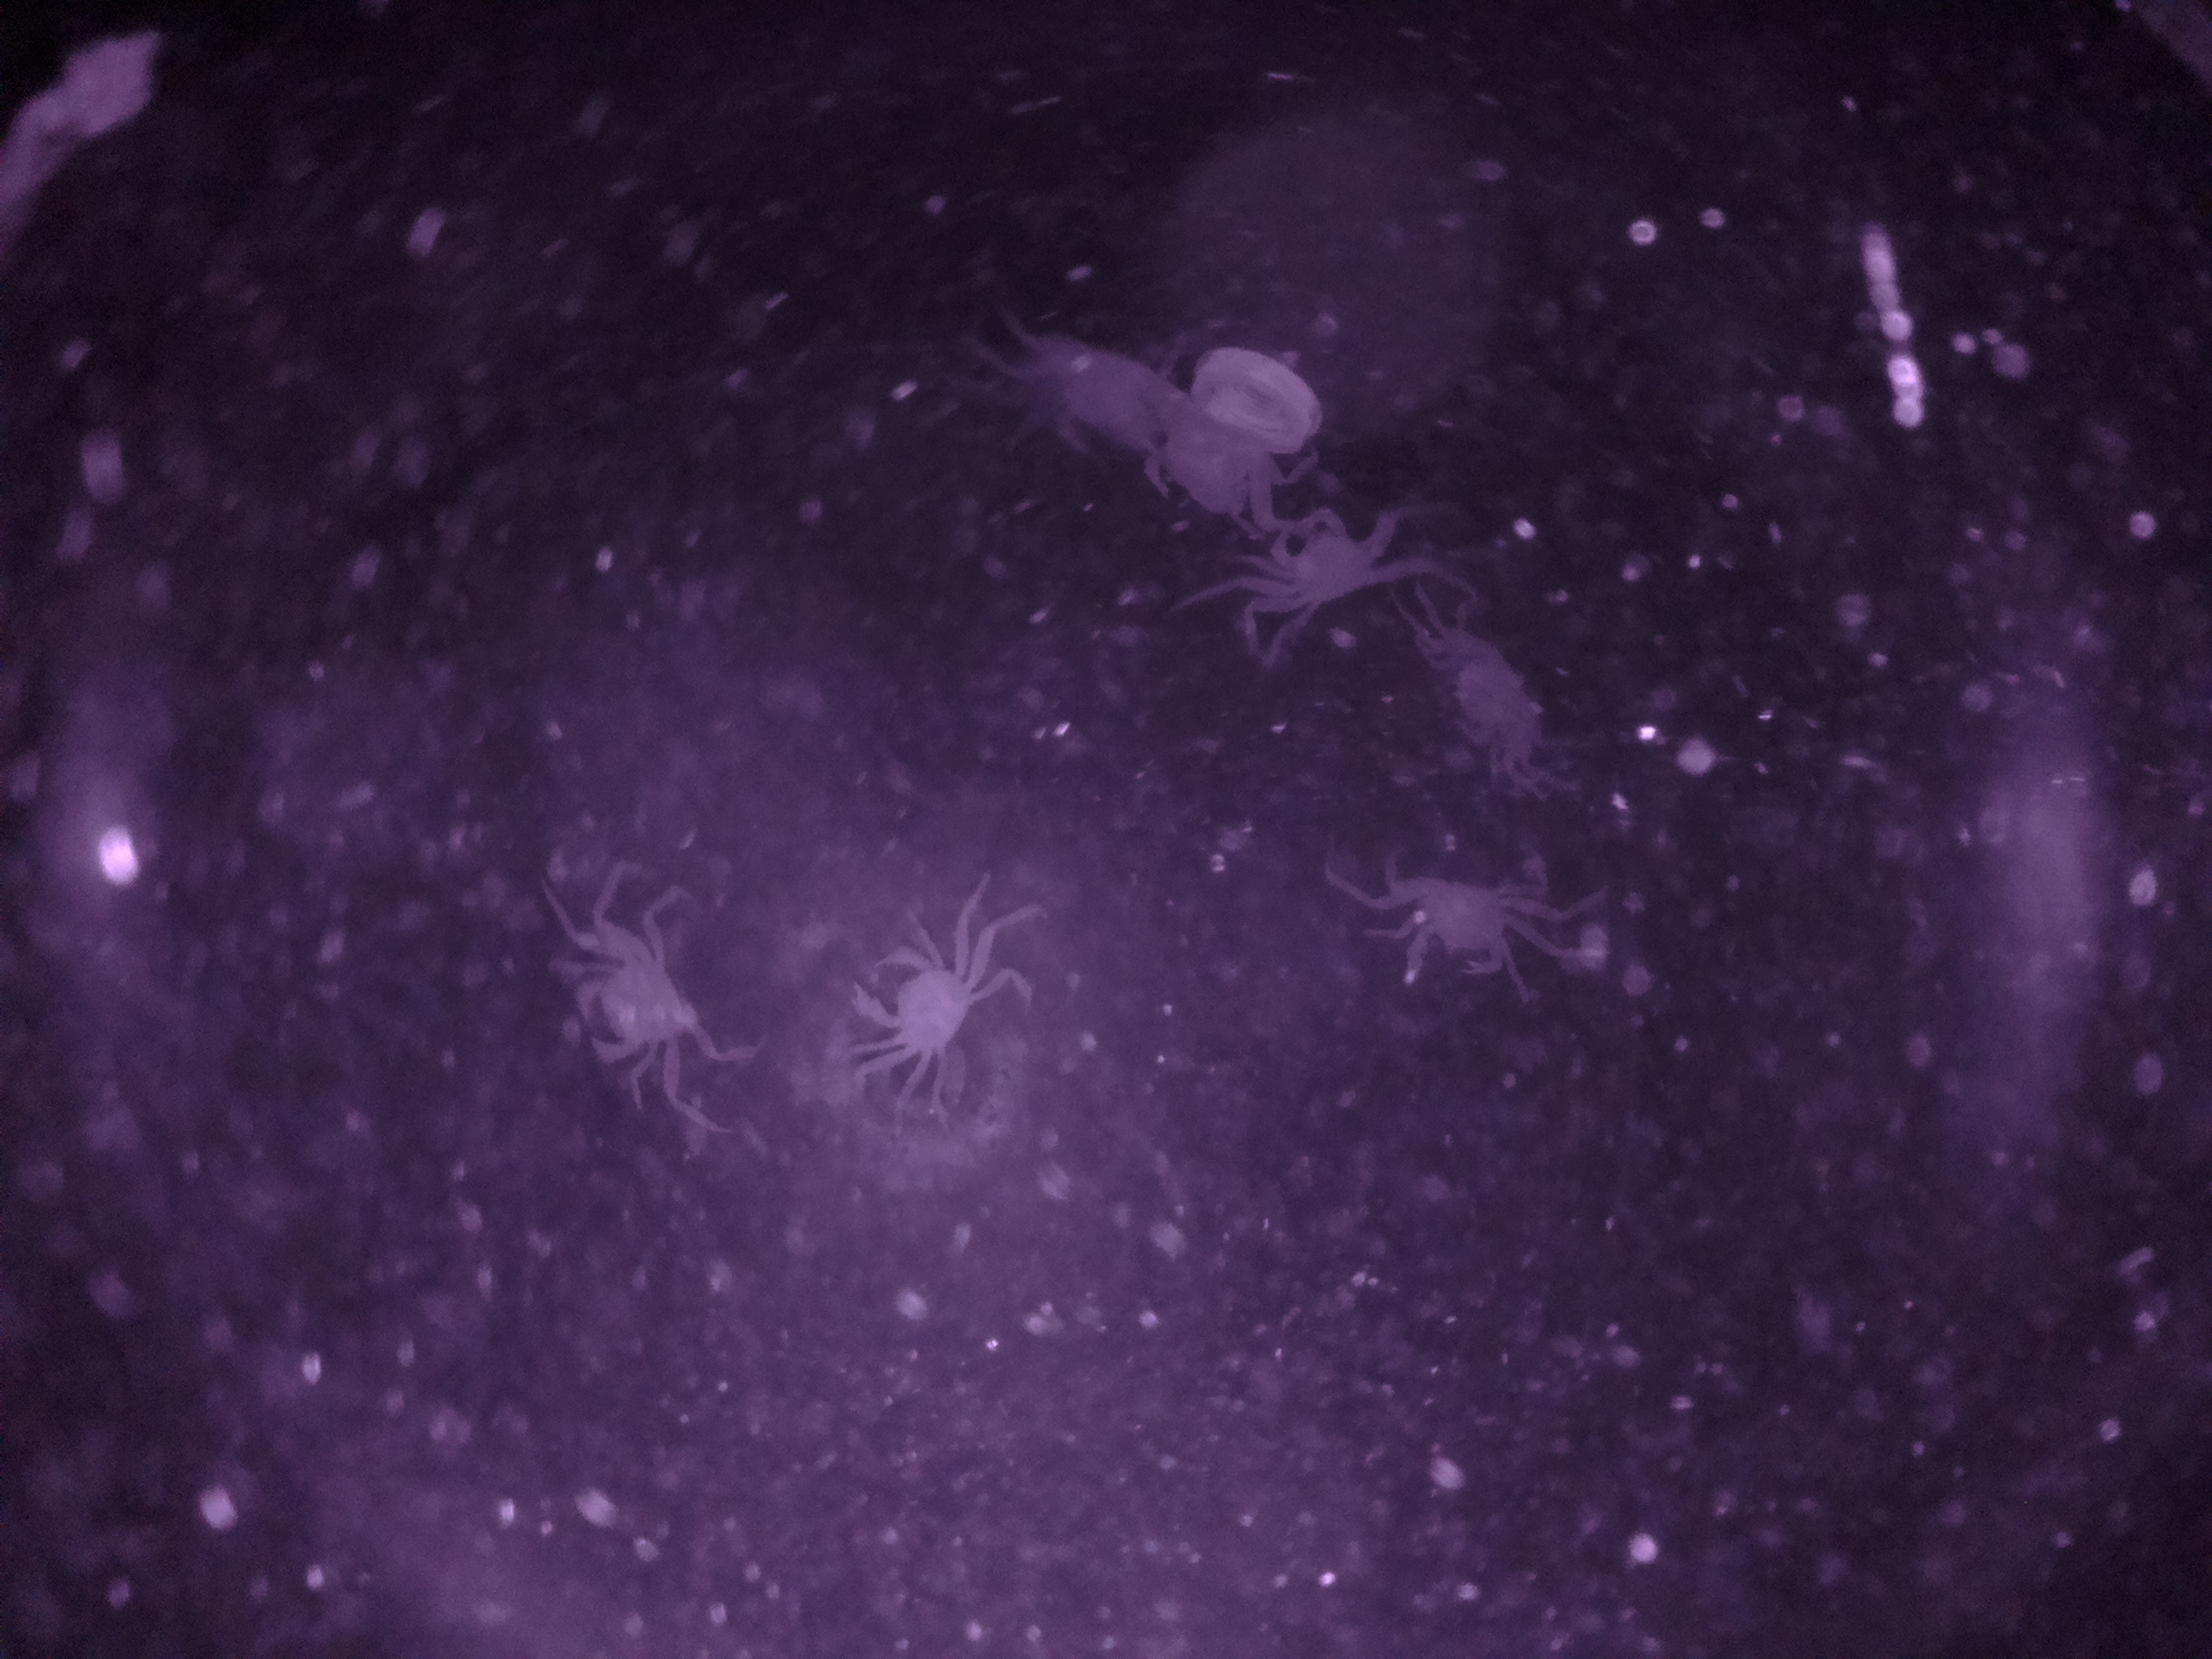Crab: (540, 911, 735, 1119), (1209, 471, 1414, 638), (1348, 847, 1559, 1006), (836, 911, 1000, 1107)
